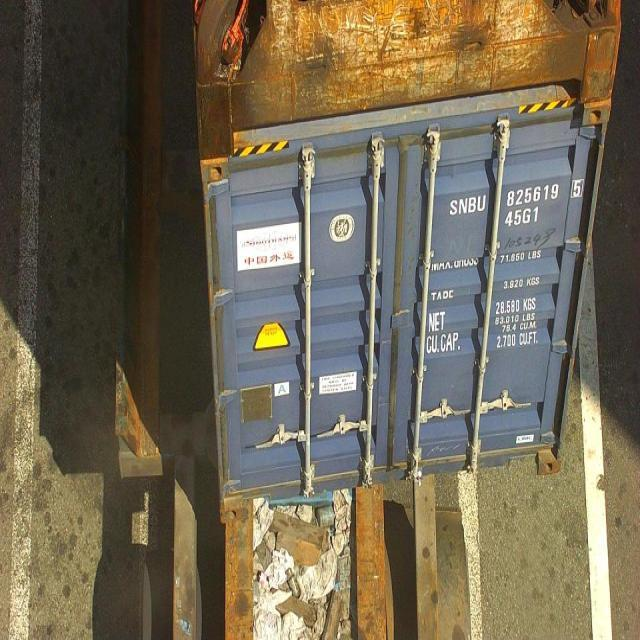ISO: (504, 206, 540, 224)
container_number: (450, 175, 586, 219)
